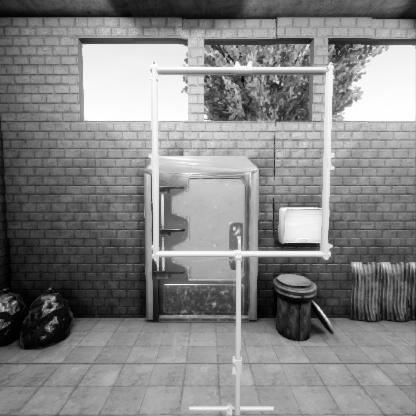gate: (147, 164, 347, 362)
